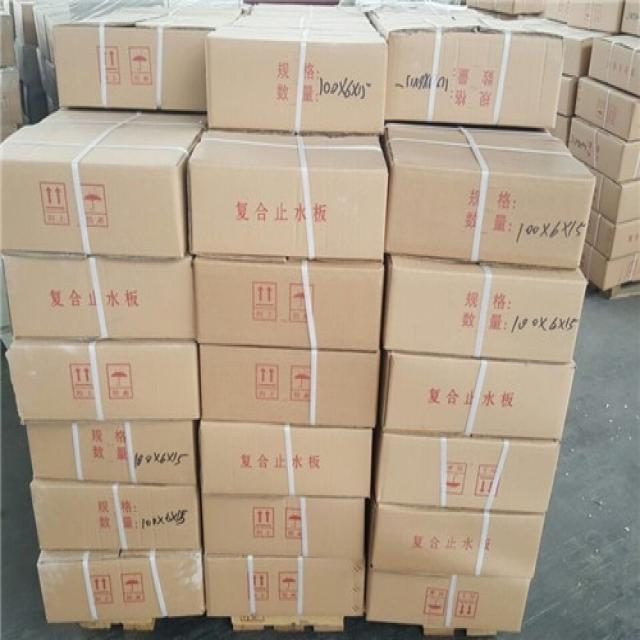box: (384, 121, 598, 270), (0, 109, 206, 258), (187, 128, 388, 263), (365, 3, 563, 128), (205, 3, 388, 137), (381, 256, 590, 364), (52, 3, 250, 113), (193, 256, 384, 352), (371, 420, 561, 515), (0, 249, 196, 340), (378, 352, 576, 442), (5, 338, 200, 425), (198, 343, 381, 428), (366, 500, 545, 579), (36, 543, 206, 625), (198, 420, 374, 498), (28, 480, 204, 550), (365, 561, 532, 633), (26, 420, 198, 485), (200, 493, 366, 558), (205, 555, 365, 616), (568, 148, 640, 224), (568, 116, 640, 183), (573, 73, 639, 142), (35, 0, 106, 63), (588, 34, 639, 97), (561, 24, 614, 79), (582, 242, 640, 292), (586, 207, 640, 259), (0, 65, 31, 143), (567, 0, 625, 34), (15, 36, 42, 87), (37, 48, 59, 108), (466, 0, 545, 15), (13, 0, 37, 46), (0, 0, 15, 67), (557, 73, 577, 116), (547, 113, 571, 147), (620, 0, 640, 36), (544, 0, 570, 24), (0, 0, 14, 19)
